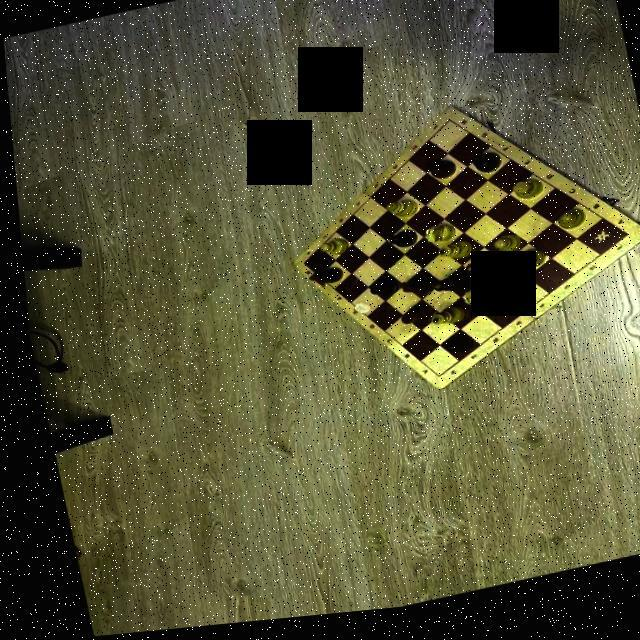chess-table-corners: (443, 124, 449, 130), (428, 381, 433, 386), (296, 266, 300, 270)
